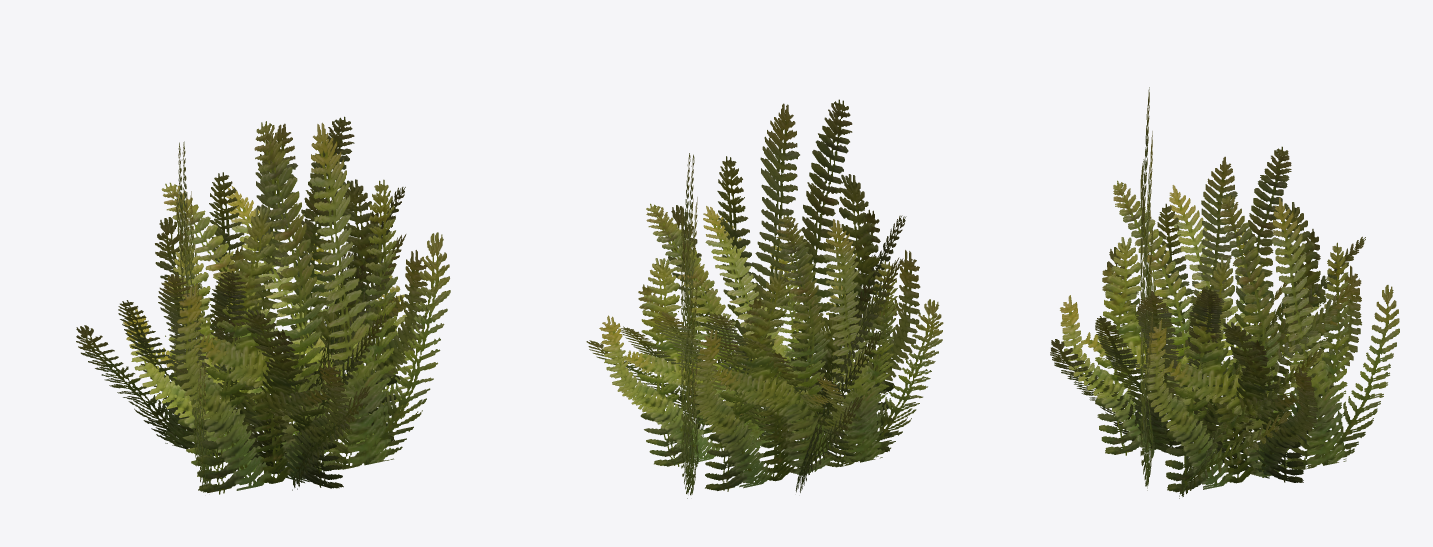
File: caijiwu002.FBX
The picture shows the model from 3 angles, left to right: view 1: azimuth 30°, elevation 25°; view 2: azimuth 150°, elevation 25°; view 3: azimuth 270°, elevation 25°; orthographic projection. The views are drawn at different scales.
Parts seen in each view (by area): view 1: GM_jlgm001_004; view 2: GM_jlgm001_004; view 3: GM_jlgm001_004.
Part boxes in pixels (x1,y1,x2,y2): GM_jlgm001_004: [76, 116, 450, 494]; GM_jlgm001_004: [586, 99, 943, 498]; GM_jlgm001_004: [1050, 87, 1399, 498].
Bounding box in the file's own units: 304 × 299 × 293.
